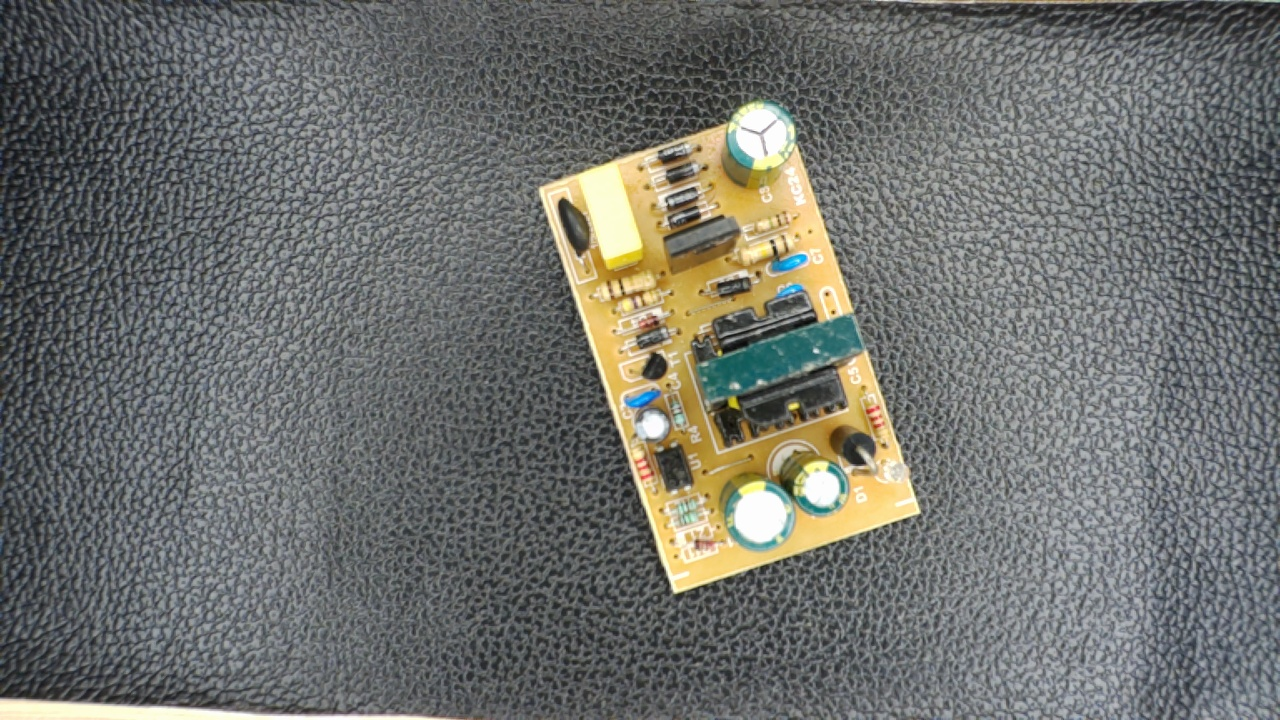fuse: (552, 192, 596, 275)
hv_capacitor: (720, 99, 798, 191)
optocoupler: (648, 440, 699, 498)
